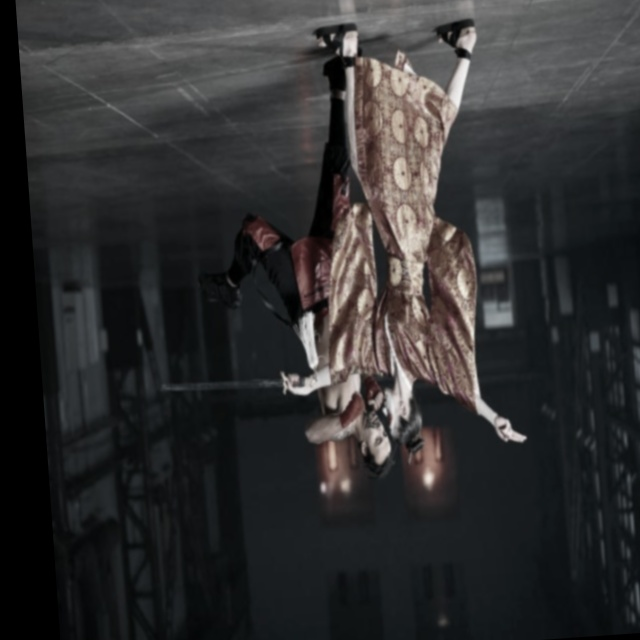Sharp-Object: (158, 364, 318, 401)
